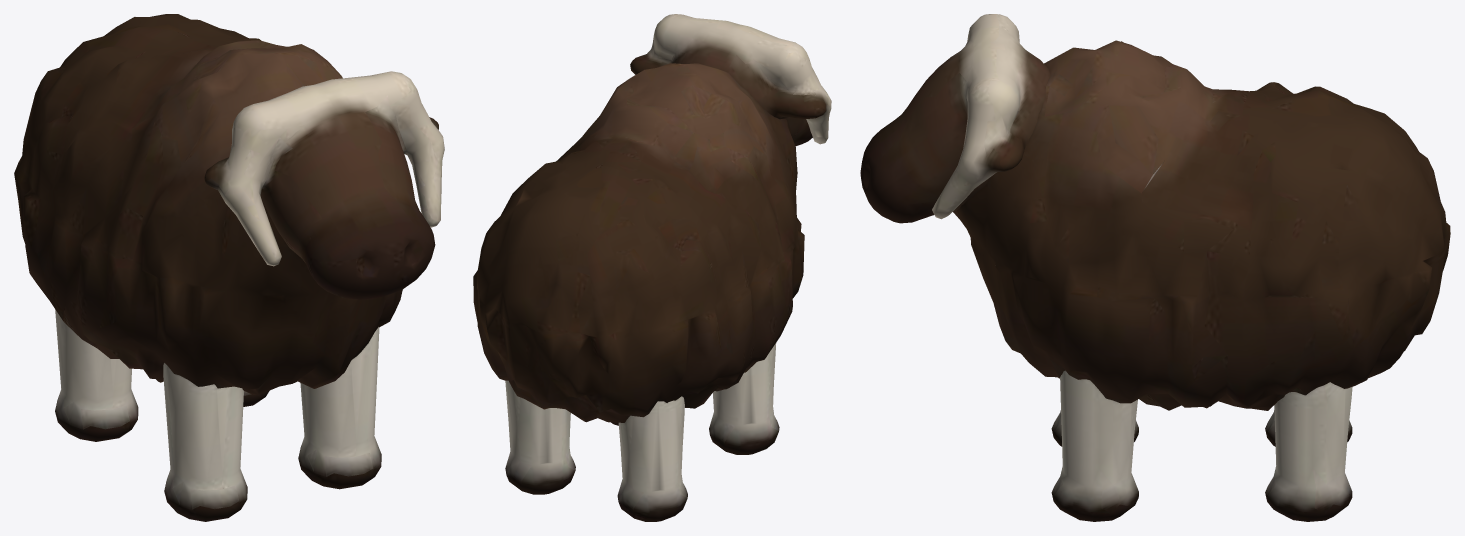
Rendered from animal_musk_ox.glb.
3 renders of one model, left to right at view 1: azimuth 30°, elevation 25°; view 2: azimuth 150°, elevation 25°; view 3: azimuth 270°, elevation 25°, orthographic. The views are drawn at different scales.
Parts seen in each view (by area): view 1: animal_musk_ox, head, leg0, leg1, leg2; view 2: animal_musk_ox, head, leg2, leg3, leg0; view 3: animal_musk_ox, head, leg1, leg3.
Boxes of the visible parts, x1,y1,x2,y2 form: animal_musk_ox: [14, 14, 402, 394]; head: [204, 71, 444, 299]; leg0: [163, 363, 247, 521]; leg1: [298, 327, 381, 489]; leg2: [55, 309, 138, 441]; animal_musk_ox: [473, 63, 804, 422]; head: [630, 14, 831, 146]; leg2: [617, 396, 687, 521]; leg3: [505, 380, 575, 494]; leg0: [709, 343, 779, 454]; animal_musk_ox: [953, 40, 1450, 410]; head: [860, 14, 1050, 223]; leg1: [1051, 370, 1138, 521]; leg3: [1265, 382, 1352, 521].
Size of the model in its own units: 0.3707 by 0.5503 by 0.6635.
1 material, 1 textured.
